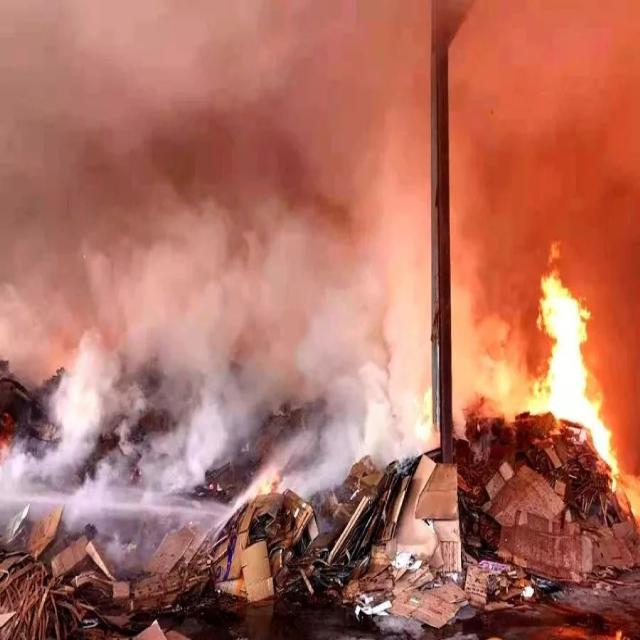Fire: (530, 268, 600, 413), (574, 416, 616, 470)
Smoke: (0, 159, 431, 502)
